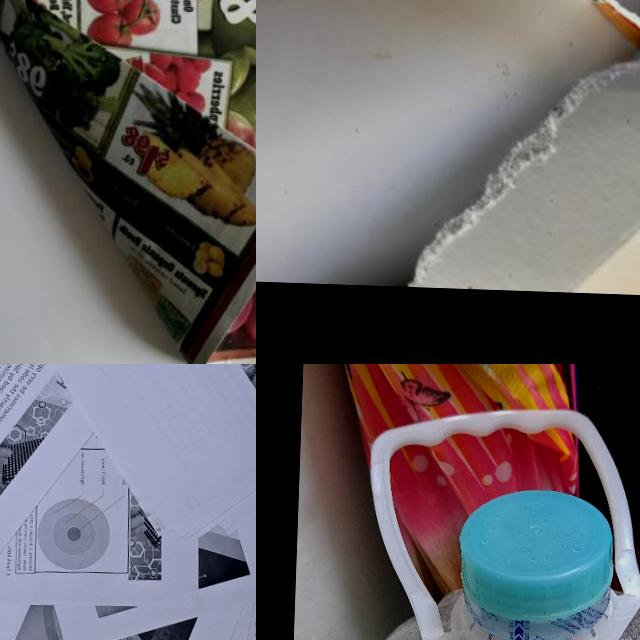papel: (256, 0, 640, 300), (0, 0, 256, 364), (0, 364, 256, 640)
tampa plástica: (459, 486, 618, 616)
